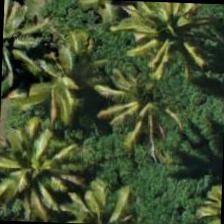Kelapa_Sawit: (96, 58, 189, 150), (0, 122, 86, 216), (119, 1, 212, 68)
